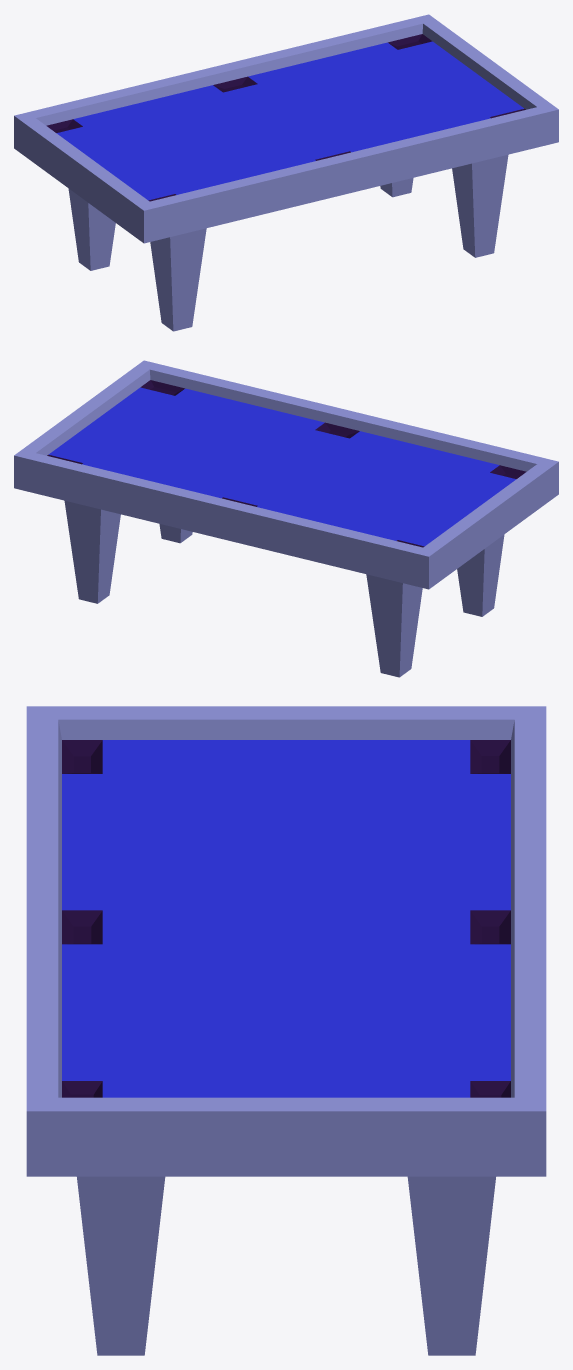
Rendered from billar.fbx.
3 renders of one model, top to bottom at view 1: azimuth 30°, elevation 25°; view 2: azimuth 150°, elevation 25°; view 3: azimuth 270°, elevation 25°, orthographic. The views are drawn at different scales.
Parts seen in each view (by area): view 1: Cube.007; view 2: Cube.007; view 3: Cube.007.
Part boxes in pixels (box(x1,y1,x2,y2)): Cube.007: box(14, 14, 558, 331); Cube.007: box(14, 360, 558, 677); Cube.007: box(26, 706, 546, 1355).
Size of the model in its own units: 2337 by 781 by 1268.
